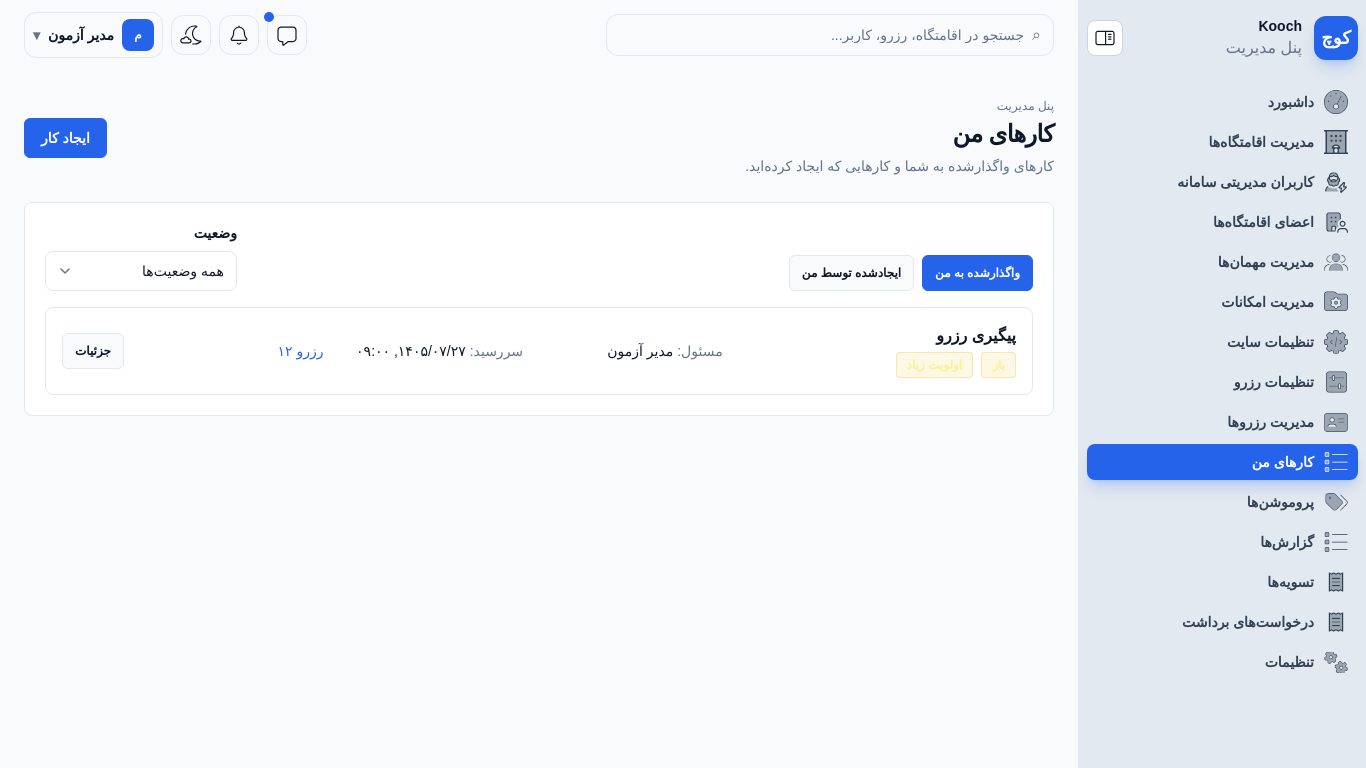
Test: Admin tasks › reassigns from details, refreshes the list, and keeps API errors visible
Click the button with aria-label "جزئیات پیگیری رزرو" at (93, 351), box [62,333,124,369]
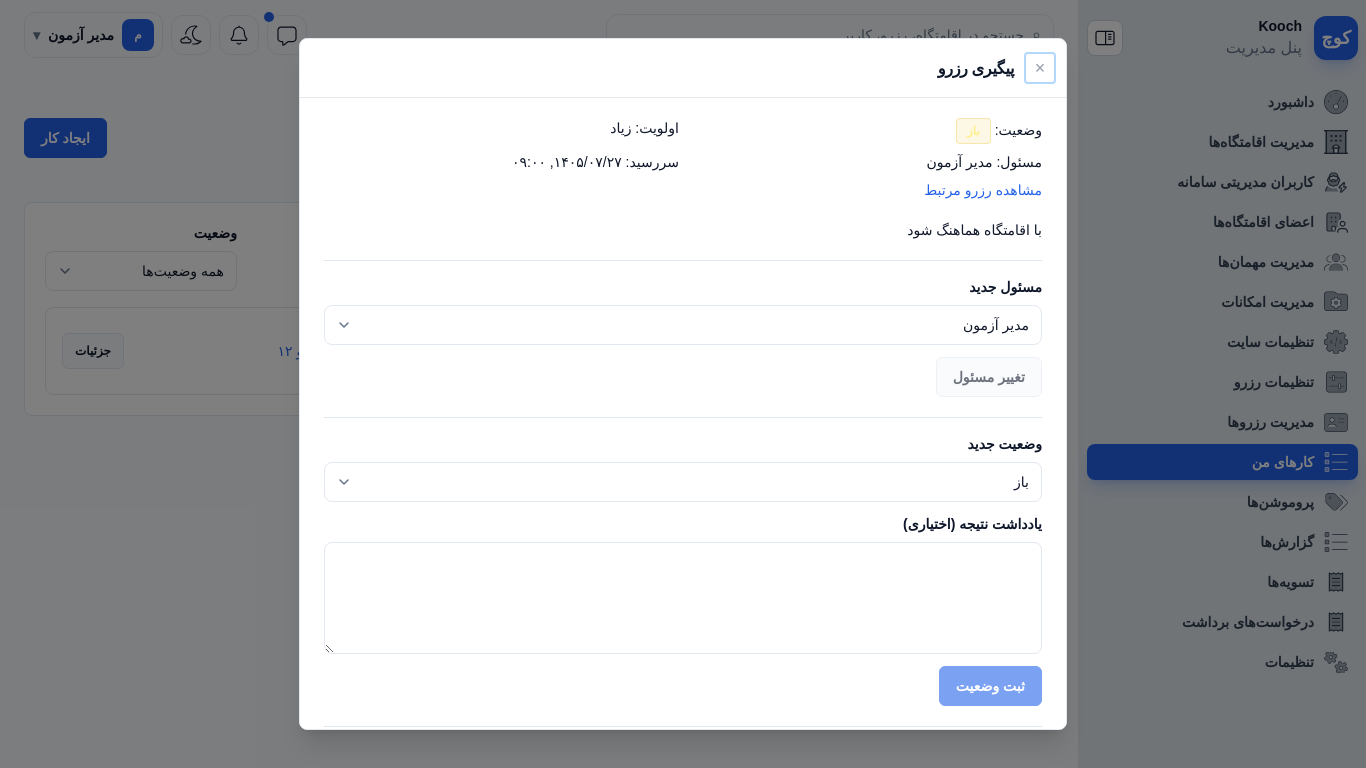
Select "مدیر دوم" in the dropdown labelled "مسئول جدید" at (683, 325), box [324,305,1042,345]
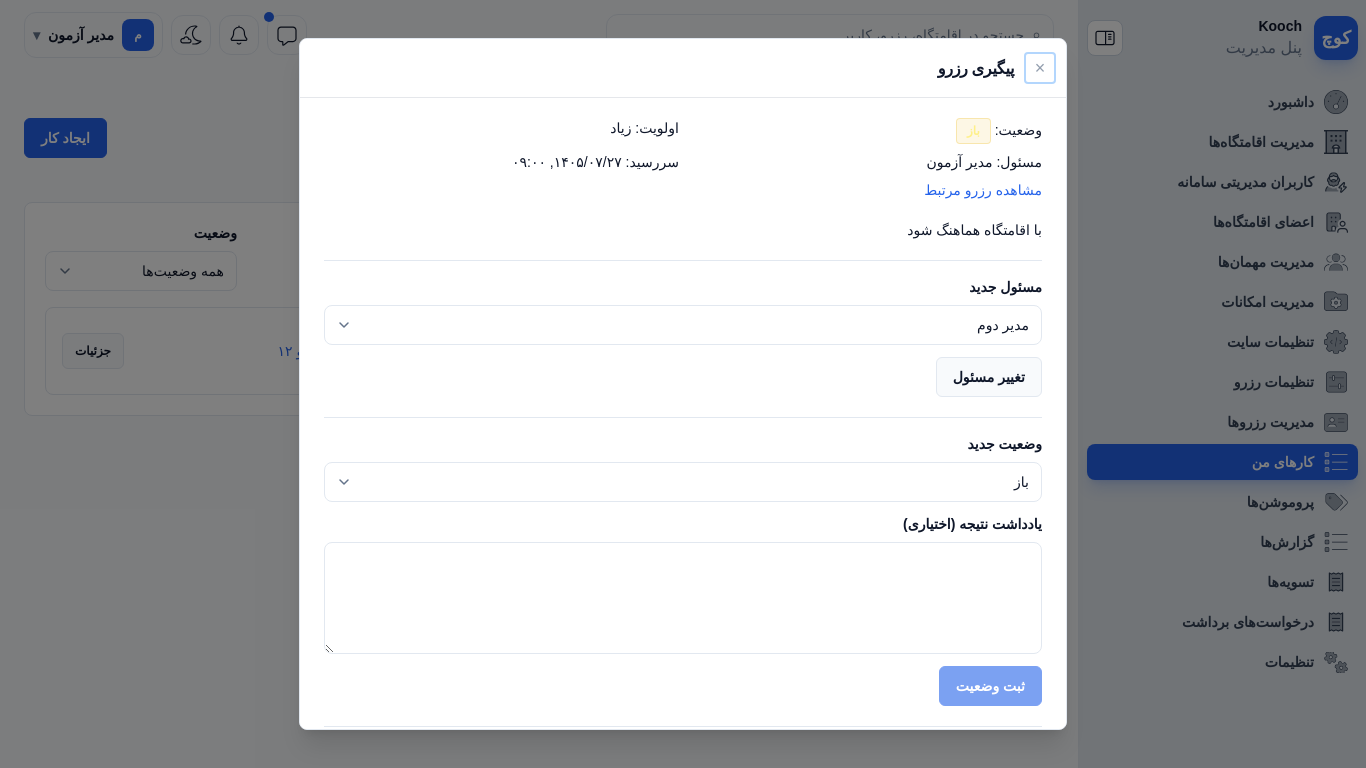
Click the button "تغییر مسئول" at (989, 377), box [936,357,1042,397]
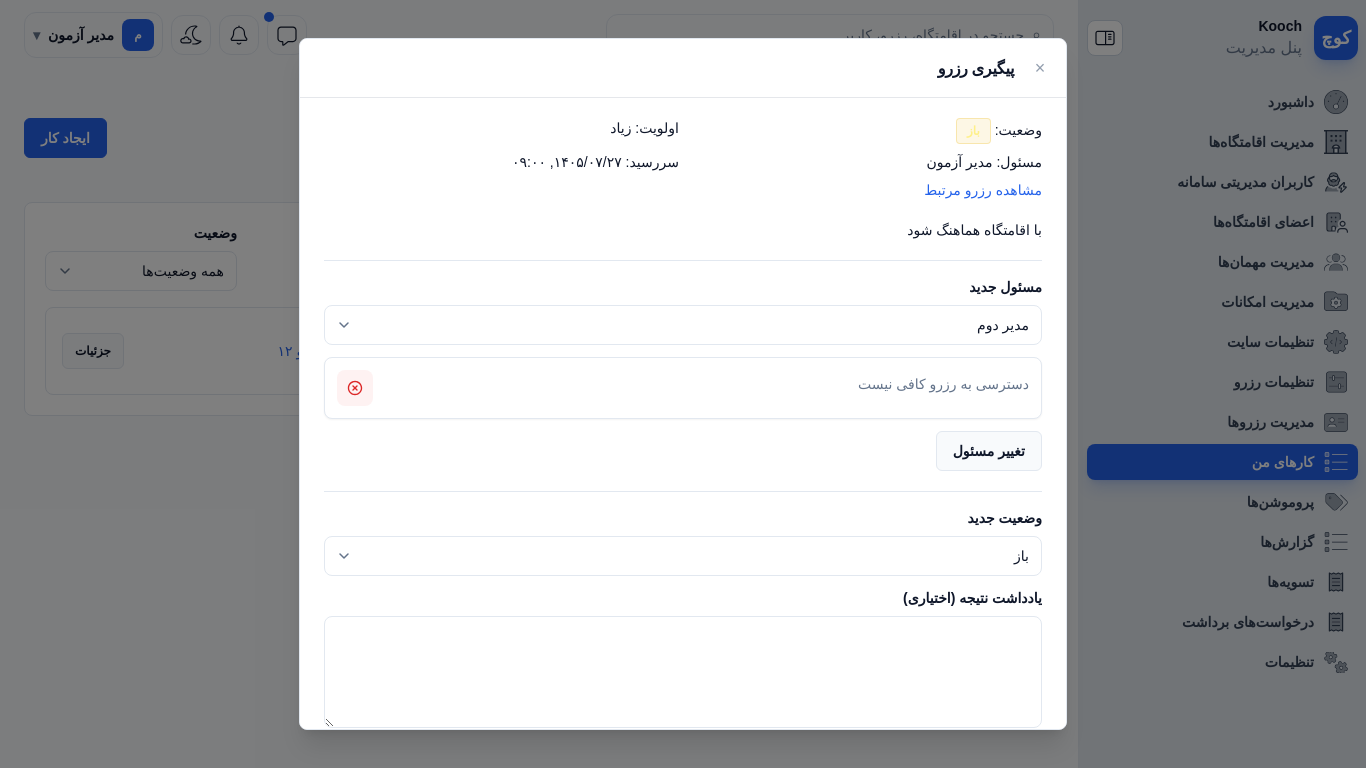
Check: the text "دسترسی به رزرو کافی نیست" is shown, box [858,376,1029,392]
Click the button "تغییر مسئول" at (989, 451), box [936,431,1042,471]
(page scrolled)
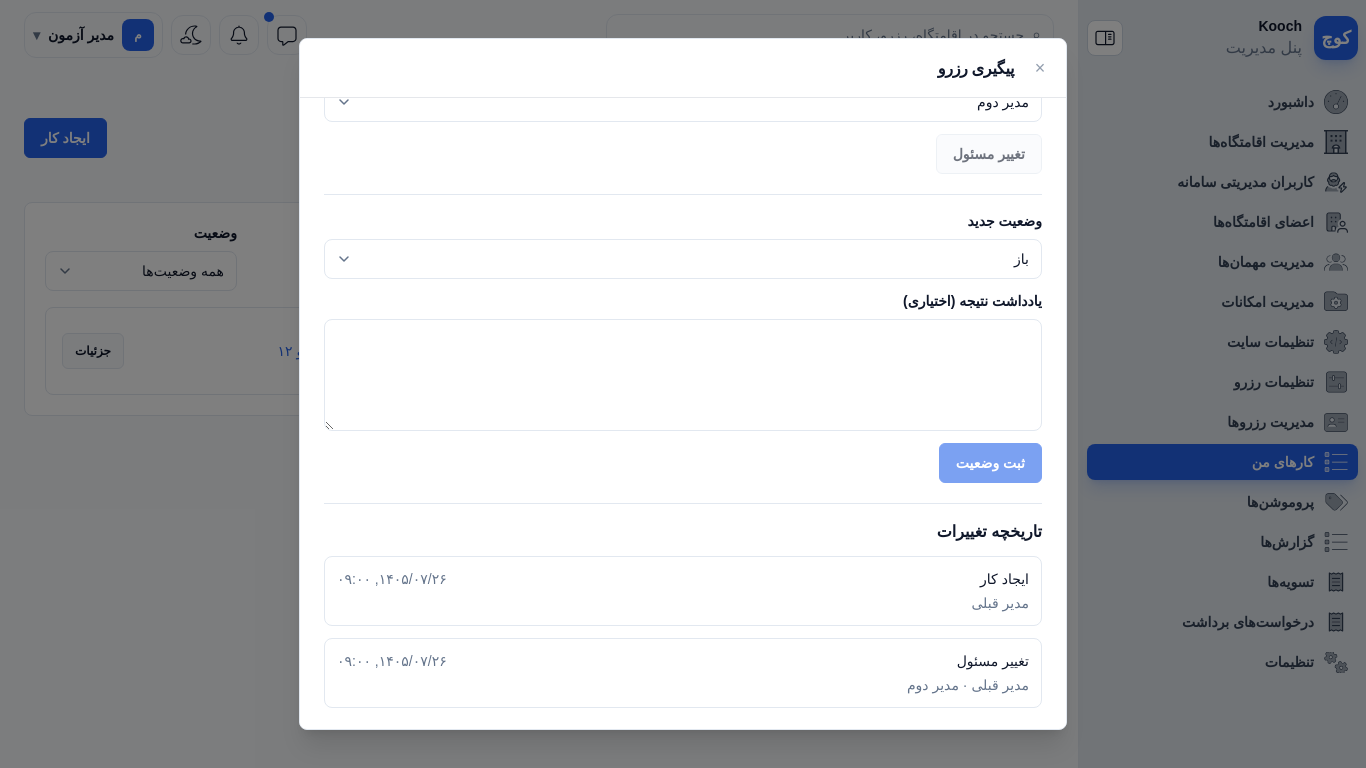
Check: the text "تغییر مسئول" is shown, box [957,651,1029,671]
